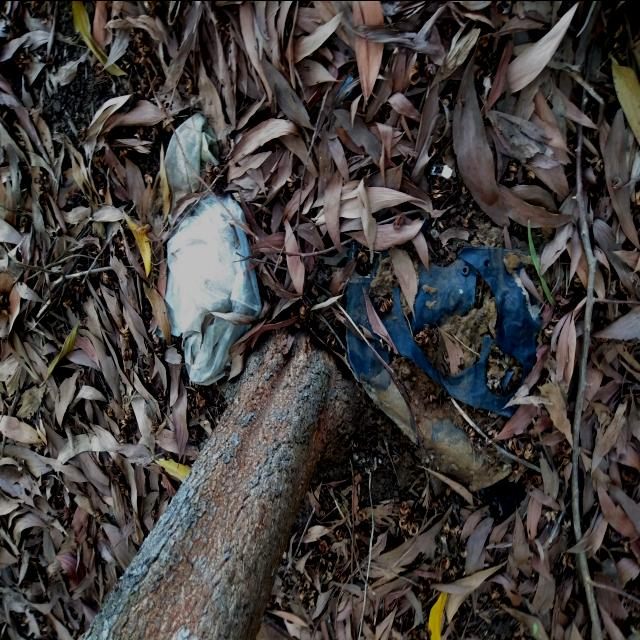Other plastic bottle: (346, 240, 544, 494)
Plastic film: (165, 192, 262, 384), (164, 110, 220, 234)
